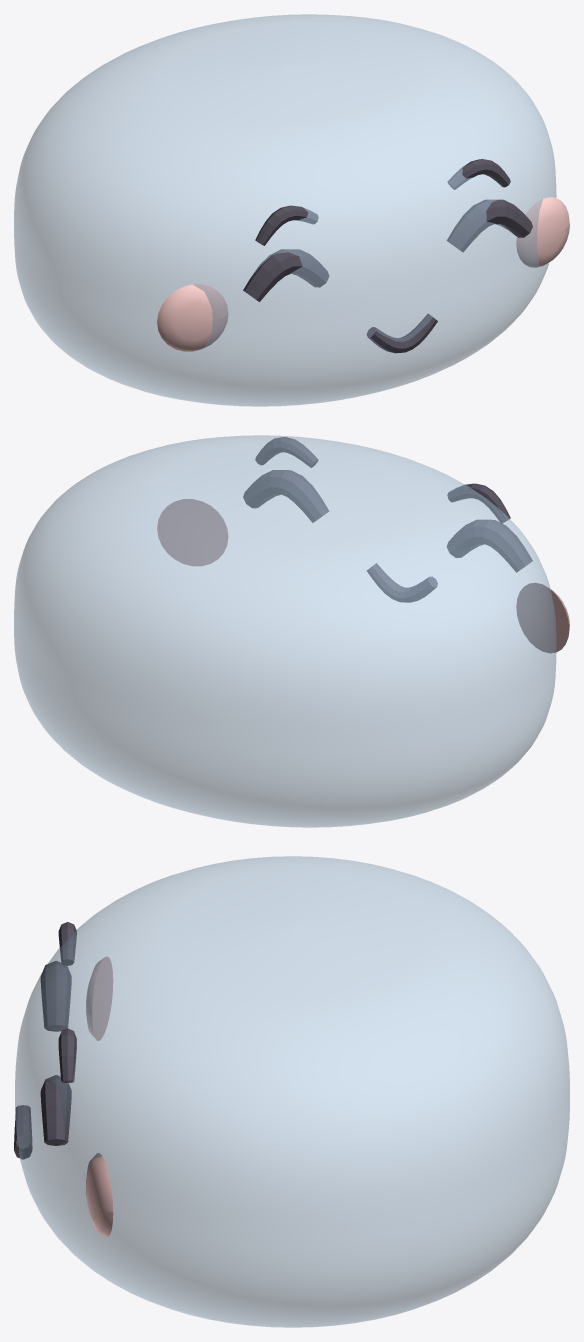
File: jelly-friends-playroom-jelly-pebble-e445258c__27600.glb
The picture shows the model from 3 angles, top to bottom: view 1: azimuth 30°, elevation 25°; view 2: azimuth 150°, elevation 25°; view 3: azimuth 270°, elevation 25°; orthographic projection. The views are drawn at different scales.
Visible parts, largest first — view 1: body, blush-left, blush-right, eye-right, eye-left, mouth, brow-left, brow-right; view 2: body, blush-right, blush-left, eye-left, eye-right, mouth, brow-left, brow-right; view 3: body, eye-left, eye-right, blush-right, blush-left, mouth, brow-right, brow-left.
Boxes of the visible parts, box(x1,y1,x2,y2) form: body: box(14, 14, 556, 406); blush-left: box(157, 284, 228, 351); blush-right: box(516, 197, 569, 267); eye-right: box(447, 199, 532, 252); eye-left: box(243, 249, 329, 301); mouth: box(366, 314, 437, 353); brow-left: box(255, 205, 318, 245); brow-right: box(447, 159, 510, 189); body: box(14, 435, 556, 827); blush-right: box(157, 499, 228, 566); blush-left: box(516, 583, 569, 653); eye-left: box(447, 519, 532, 572); eye-right: box(243, 470, 328, 522); mouth: box(367, 563, 437, 602); brow-left: box(447, 483, 510, 523); brow-right: box(255, 437, 318, 467); body: box(15, 856, 569, 1327); eye-left: box(40, 961, 71, 1031); eye-right: box(40, 1075, 71, 1145); blush-right: box(86, 1153, 113, 1237); blush-left: box(86, 956, 113, 1040); mouth: box(14, 1105, 32, 1159); brow-right: box(58, 1028, 76, 1082); brow-left: box(58, 922, 76, 965).
Size of the model in its own units: 0.348 by 0.185 by 0.2998.
